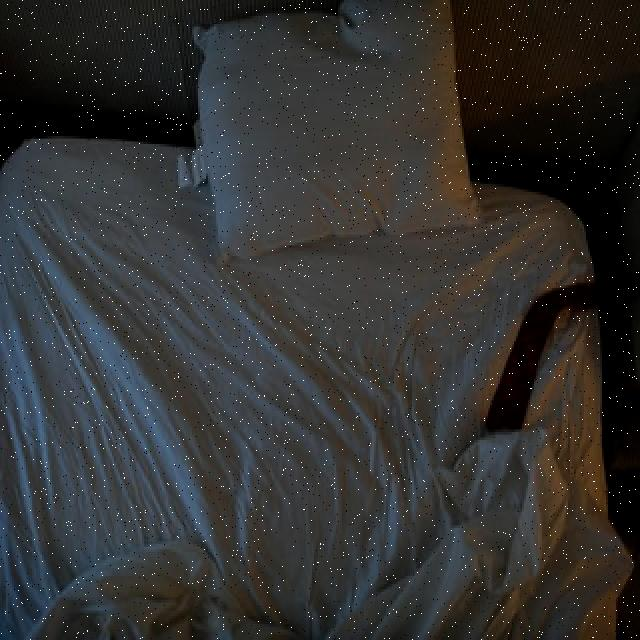bed: (0, 34, 605, 619)
